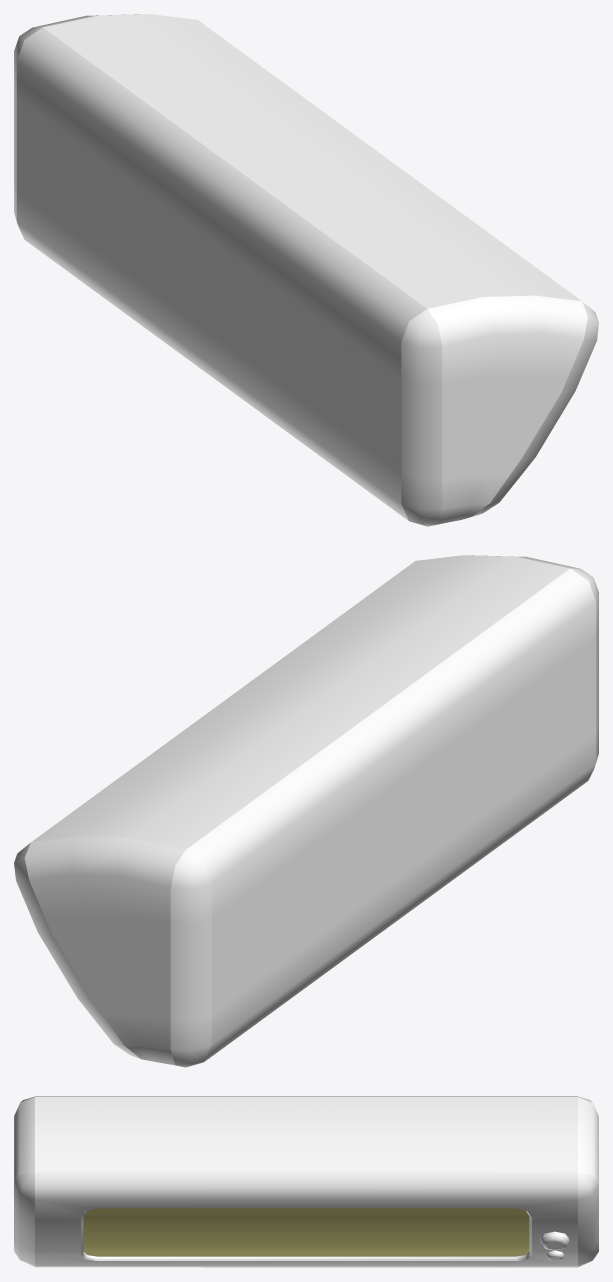
File: Lamp.fbx
The picture shows the model from 3 angles, top to bottom: view 1: azimuth 30°, elevation 25°; view 2: azimuth 150°, elevation 25°; view 3: azimuth 270°, elevation 25°; orthographic projection. The views are drawn at different scales.
Visible parts, largest first — view 1: Lamp; view 2: Lamp; view 3: Lamp.
Part boxes in pixels (left/top/right/bottom): Lamp: left=14, top=14, right=598, bottom=526; Lamp: left=14, top=555, right=598, bottom=1067; Lamp: left=14, top=1096, right=598, bottom=1267.
Size of the model in its own units: 0.2443 by 0.2616 by 0.9015.
